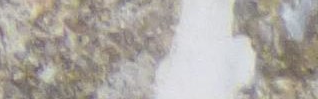Spalling: (1, 1, 185, 99), (230, 1, 318, 99)
